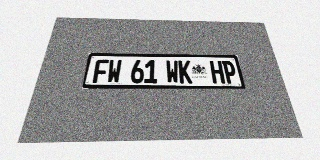1: (144, 60, 157, 83)
6: (130, 60, 144, 83)
F: (92, 59, 109, 83)
H: (209, 61, 225, 83)
K: (178, 60, 192, 83)
P: (221, 61, 238, 83)
W: (106, 59, 122, 83), (166, 60, 179, 83)
